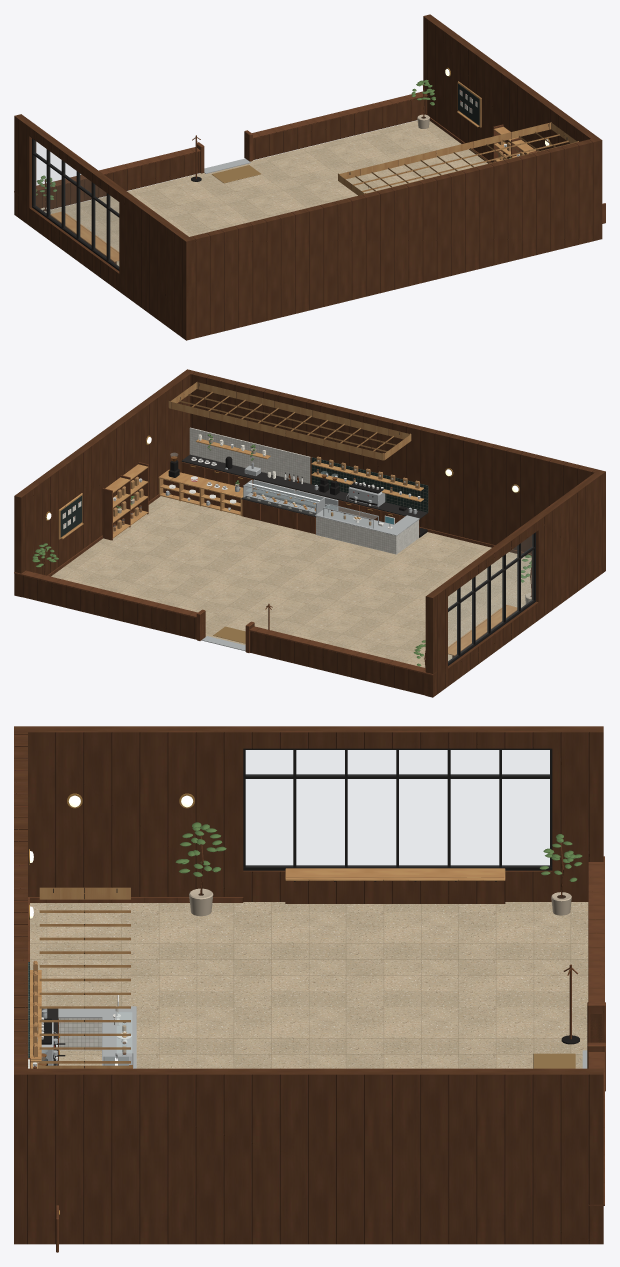
File: cafe-room.glb
3 views of the same model, one above another, from view 1: azimuth 30°, elevation 25°; view 2: azimuth 150°, elevation 25°; view 3: azimuth 270°, elevation 25° (orthographic). The views are drawn at different scales.
Visible parts, largest first — view 1: cafe_shell, cafe_deco, cafe_ceiling, cafe_bar; view 2: cafe_shell, cafe_bar, cafe_deco, cafe_ceiling; view 3: cafe_shell, cafe_deco, cafe_bar, cafe_ceiling.
Part boxes in pixels (bbox=[...]): cafe_shell: bbox=[14, 14, 602, 340]; cafe_deco: bbox=[32, 67, 550, 270]; cafe_ceiling: bbox=[338, 122, 578, 195]; cafe_bar: bbox=[50, 81, 605, 264]; cafe_shell: bbox=[14, 369, 605, 697]; cafe_bar: bbox=[58, 439, 517, 657]; cafe_deco: bbox=[32, 434, 535, 667]; cafe_ceiling: bbox=[168, 382, 411, 460]; cafe_shell: bbox=[14, 726, 605, 1244]; cafe_deco: bbox=[29, 748, 582, 1068]; cafe_bar: bbox=[30, 868, 505, 1252]; cafe_ceiling: bbox=[38, 887, 132, 1068].
Size of the model in its own units: 18.28 by 4 by 12.65.
33 materials, 8 textured.
